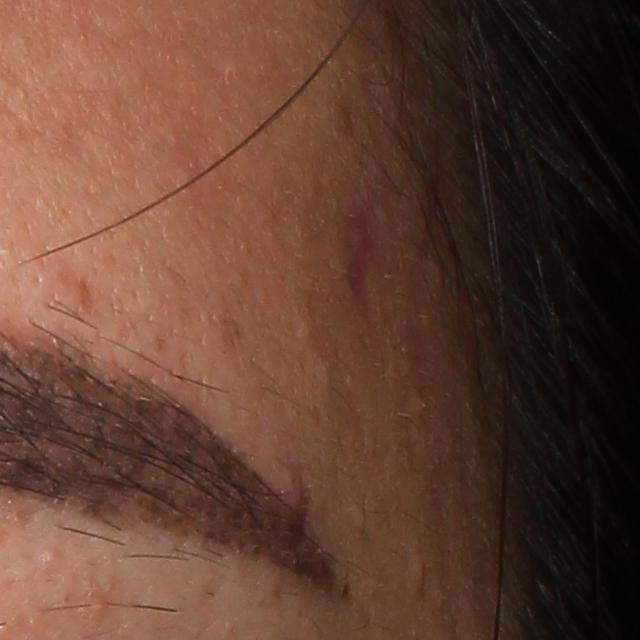comedo: (37, 546, 63, 572)
papule: (39, 267, 98, 327), (274, 464, 318, 519)
